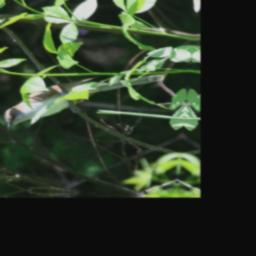Cuckoo: (2, 66, 164, 140)
